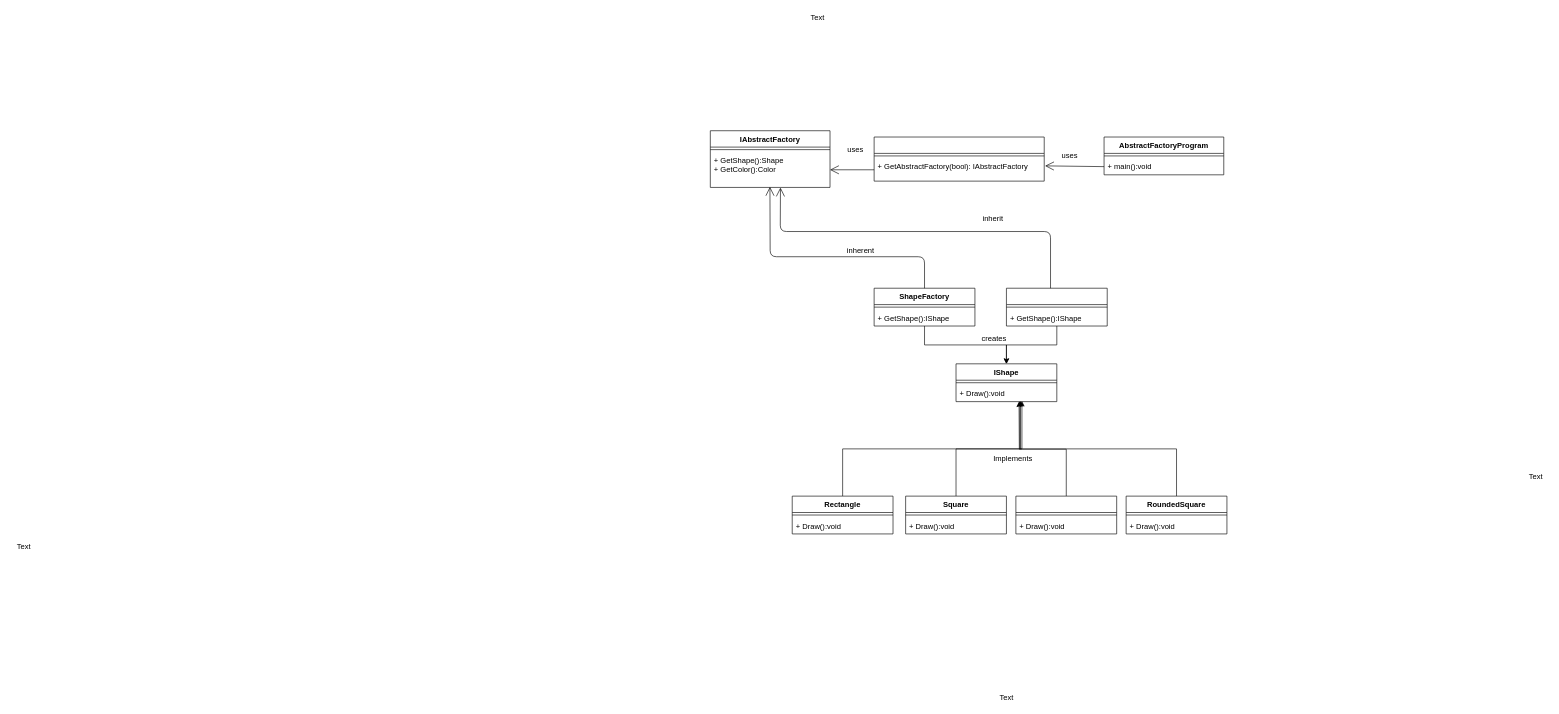
This 1559x714 diagram has some shape labels left out. Each missing label, with the box of its shape:
FactoryProducer: (873, 136, 1044, 181)
RoundedRectangle: (1015, 495, 1117, 534)
RoundedShapeFactory: (1006, 288, 1107, 326)
